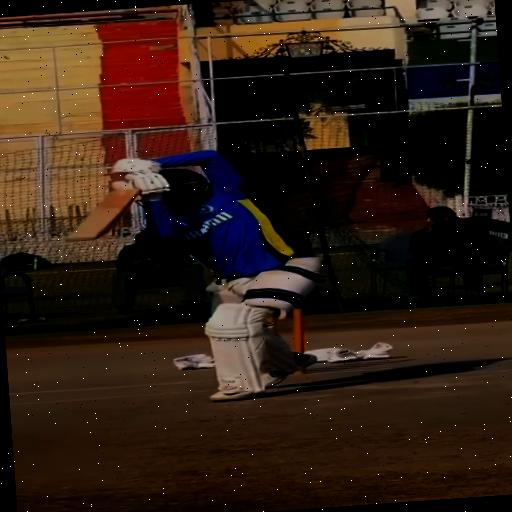Cricket bat: (67, 188, 139, 241)
